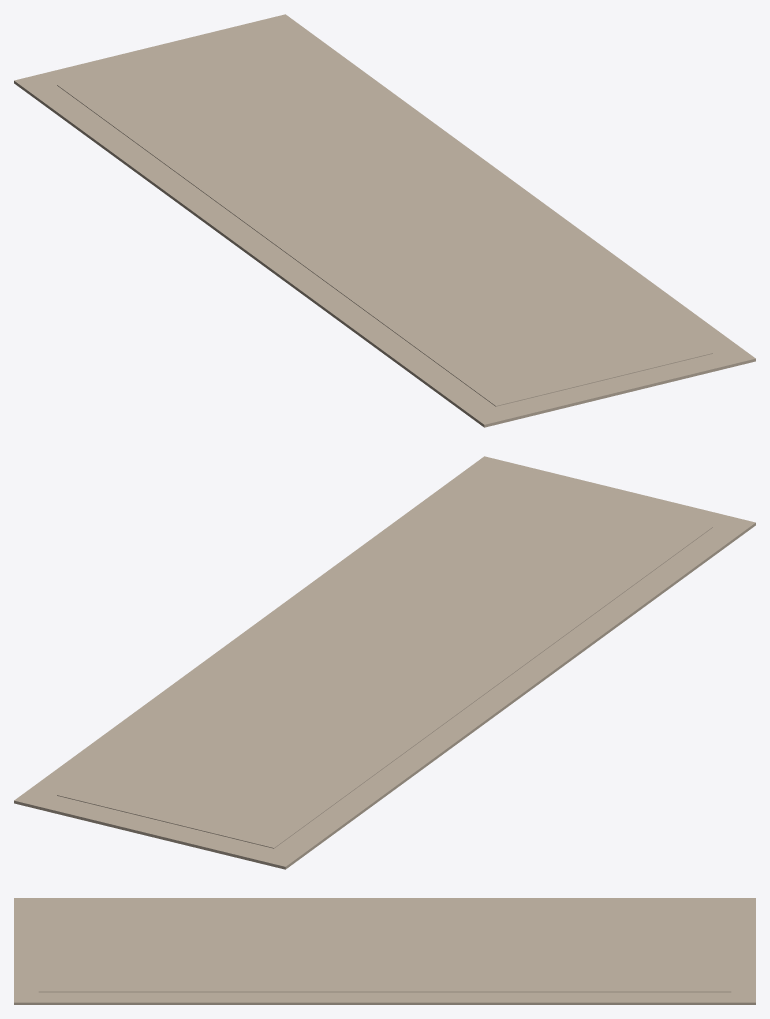
File: runner-2400x800.glb
3 views of the same model, one above another, from view 1: azimuth 30°, elevation 25°; view 2: azimuth 150°, elevation 25°; view 3: azimuth 270°, elevation 25° (orthographic). The views are drawn at different scales.
Parts seen in each view (by area): view 1: runner-2400x800; view 2: runner-2400x800; view 3: runner-2400x800.
Part boxes in pixels (x1,y1,x2,y2): runner-2400x800: (14, 14, 755, 427); runner-2400x800: (14, 456, 755, 869); runner-2400x800: (14, 898, 755, 1004).
Size of the model in its own units: 0.8 by 0.01 by 2.4.
